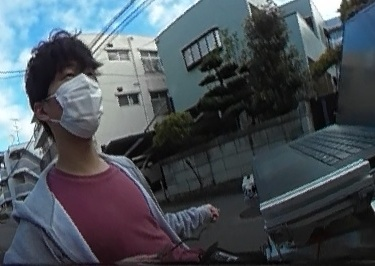person: (19, 38, 191, 266)
